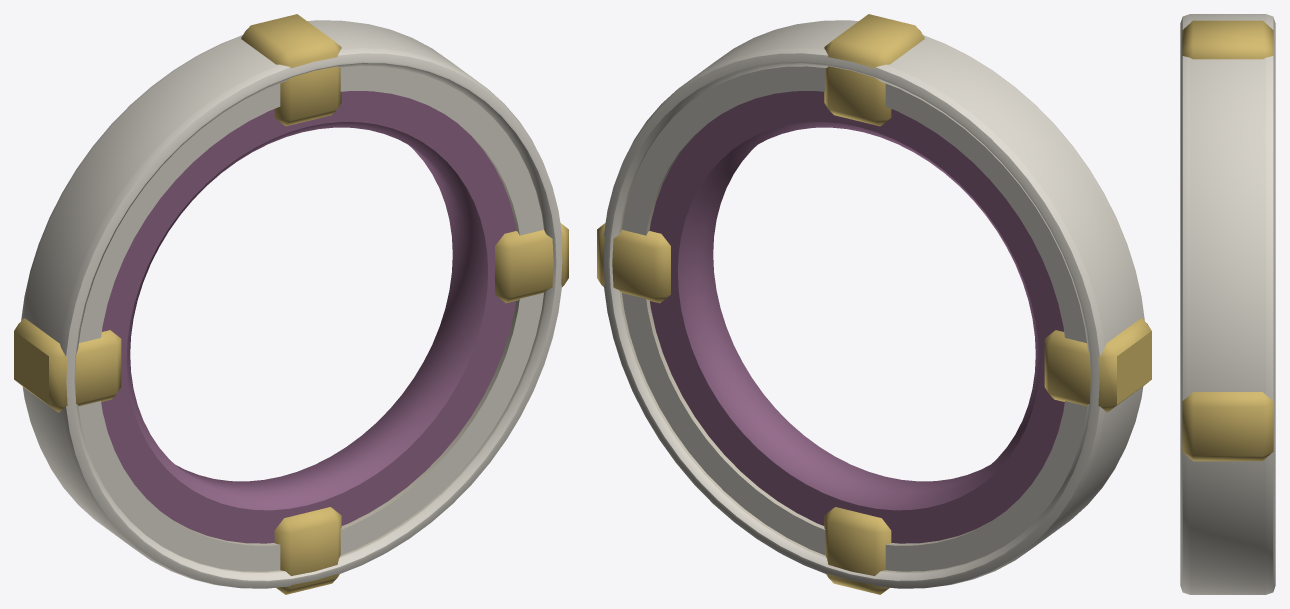
File: ring_frame.glb
3 views of the same model, side by side, from view 1: azimuth 30°, elevation 25°; view 2: azimuth 150°, elevation 25°; view 3: azimuth 270°, elevation 25° (orthographic).
Visible parts, largest first — view 1: ring_frame; view 2: ring_frame; view 3: ring_frame.
Boxes of the visible parts, x1,y1,x2,y2 form: ring_frame: (14,14,568,594); ring_frame: (597,14,1151,594); ring_frame: (1180,14,1275,594).
Bounding box in the file's own units: 30.2 × 30.2 × 4.8.
